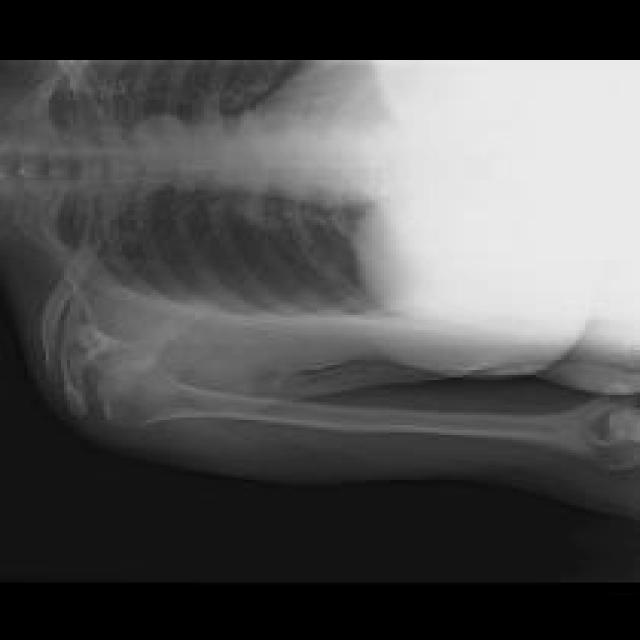normal: (96, 349, 640, 467)
